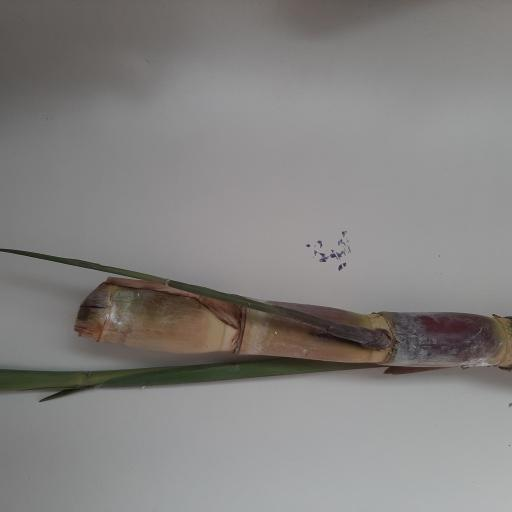Sprouted_Bud: (334, 325, 391, 352)
